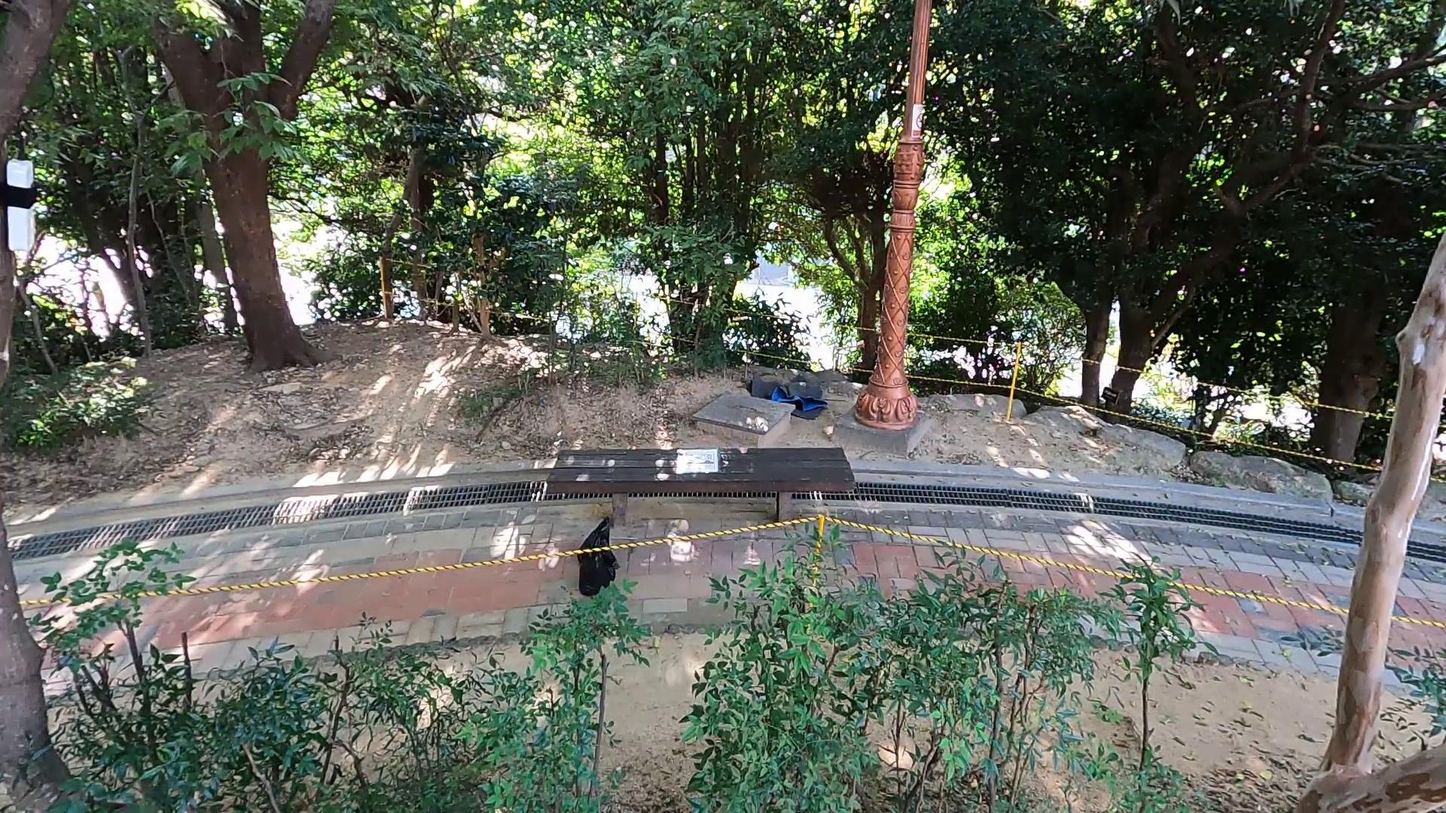trash: (740, 367, 834, 424), (574, 509, 624, 593)
